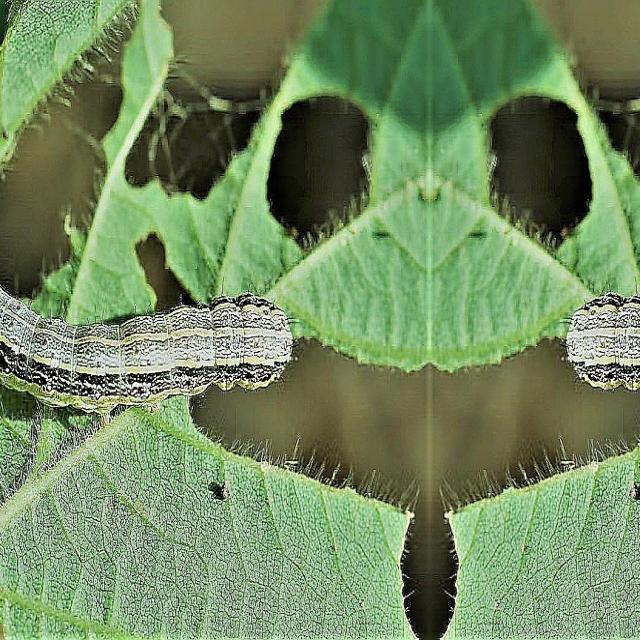Armyworm: (1, 207, 300, 501), (561, 269, 640, 404)
Armyworm_damage: (455, 49, 605, 274), (258, 68, 386, 302), (352, 474, 509, 639)
